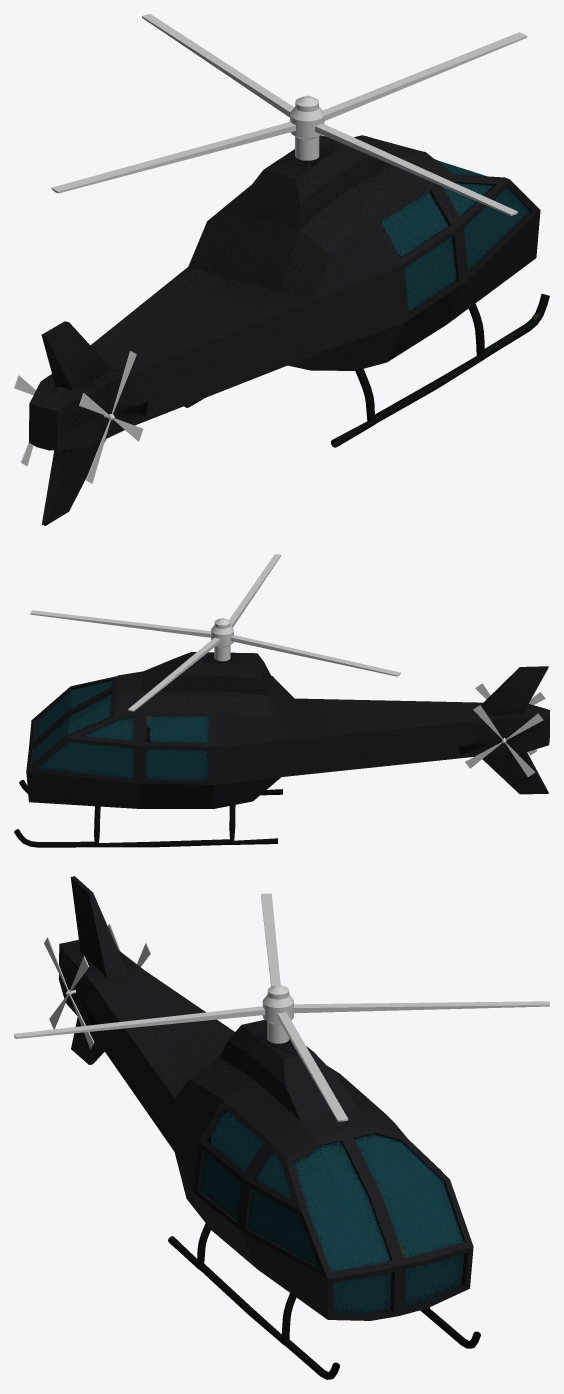
File: anim_000098.obj
The picture shows the model from 3 angles, top to bottom: view 1: azimuth 30°, elevation 25°; view 2: azimuth 150°, elevation 25°; view 3: azimuth 270°, elevation 25°; orthographic projection. The views are drawn at different scales.
Parts seen in each view (by area): view 1: Helicopter.007_Cylinder.008, Helicopter.001_Cylinder.001, Helicopter.004_Cylinder.005; view 2: Helicopter.007_Cylinder.008, Helicopter.001_Cylinder.001, Helicopter.003_Cylinder.004; view 3: Helicopter.007_Cylinder.008, Helicopter.001_Cylinder.001, Helicopter.004_Cylinder.005.
Boxes of the visible parts, x1,y1,x2,y2 form: Helicopter.007_Cylinder.008: [29, 135, 549, 525]; Helicopter.001_Cylinder.001: [51, 14, 527, 215]; Helicopter.004_Cylinder.005: [79, 350, 143, 483]; Helicopter.007_Cylinder.008: [14, 652, 549, 847]; Helicopter.001_Cylinder.001: [30, 554, 400, 711]; Helicopter.003_Cylinder.004: [465, 705, 543, 776]; Helicopter.007_Cylinder.008: [58, 876, 480, 1379]; Helicopter.001_Cylinder.001: [14, 893, 549, 1121]; Helicopter.004_Cylinder.005: [44, 937, 94, 1048].
Size of the model in its own units: 7.13 by 3.21 by 5.52.
